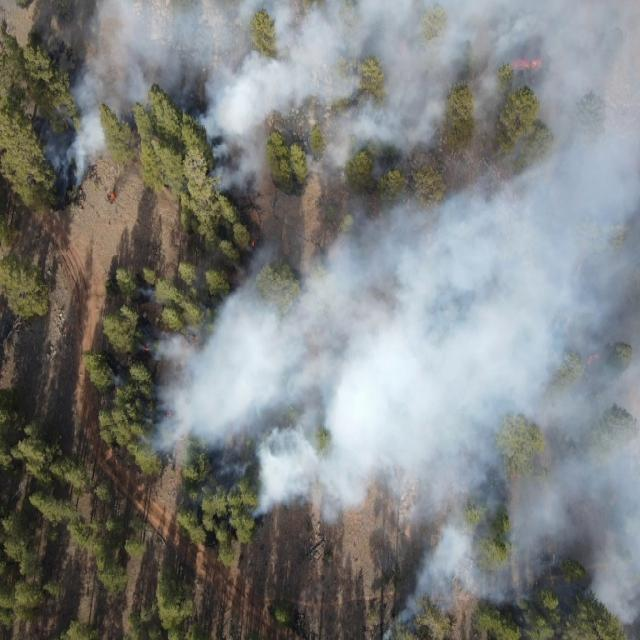fire: (511, 57, 545, 73), (584, 354, 602, 366), (106, 188, 118, 202), (166, 410, 173, 421), (145, 346, 150, 353)
smoke: (402, 190, 640, 580), (200, 0, 640, 191), (254, 190, 401, 536), (152, 270, 255, 485), (78, 0, 199, 132), (408, 578, 530, 614), (589, 577, 640, 640), (42, 108, 78, 192), (77, 133, 100, 185), (376, 610, 410, 638), (136, 415, 152, 459), (108, 368, 125, 392), (134, 284, 151, 300), (140, 338, 152, 358)
